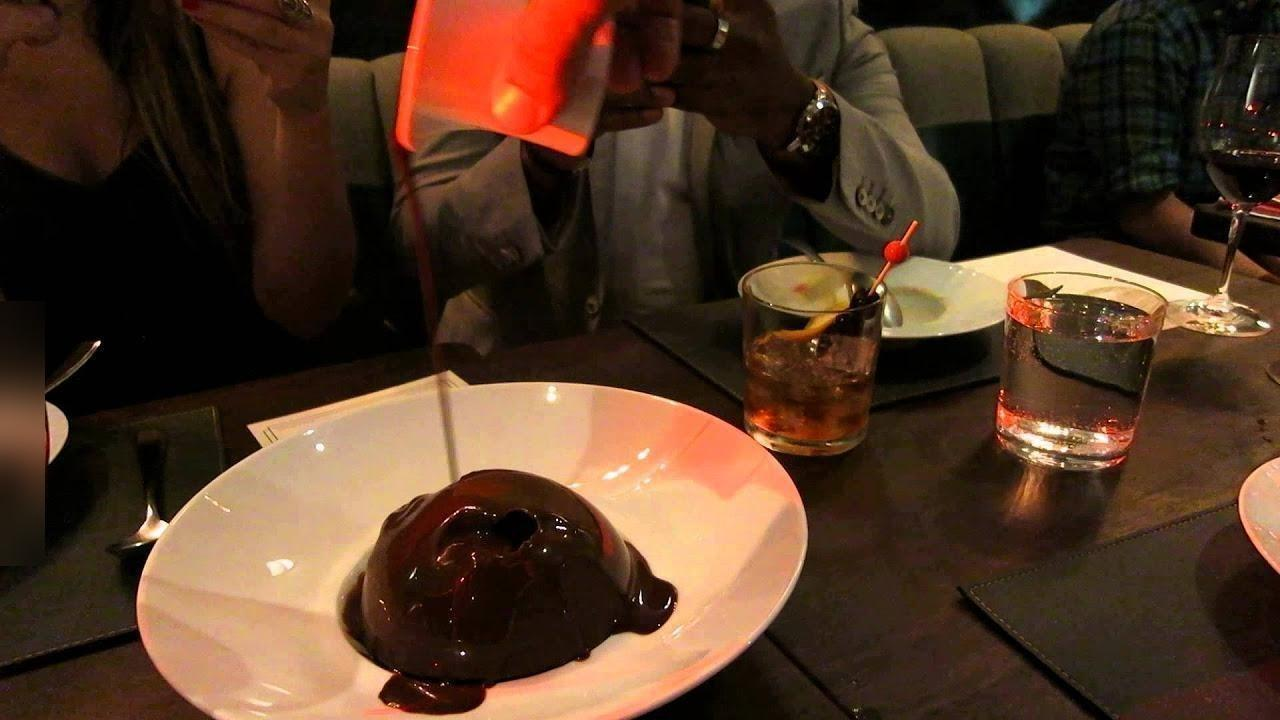glass-normal: (993, 271, 1169, 472), (736, 257, 889, 457)
glass-wine: (1170, 35, 1279, 334)
